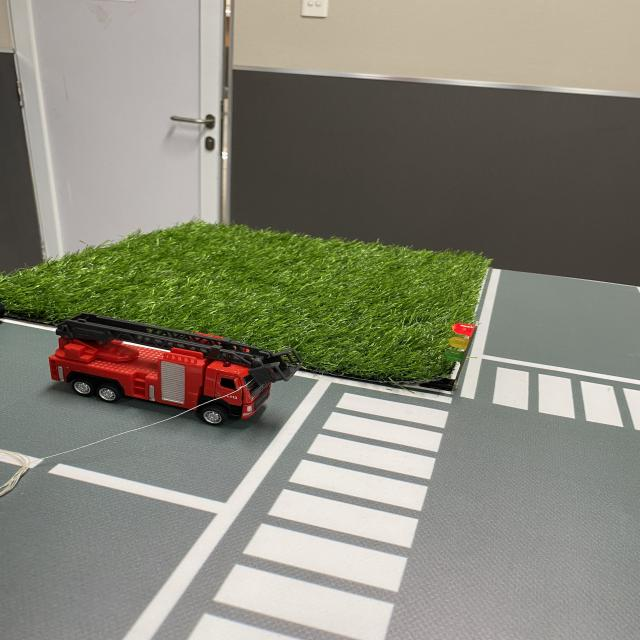Fire Truck: (44, 308, 308, 434)
